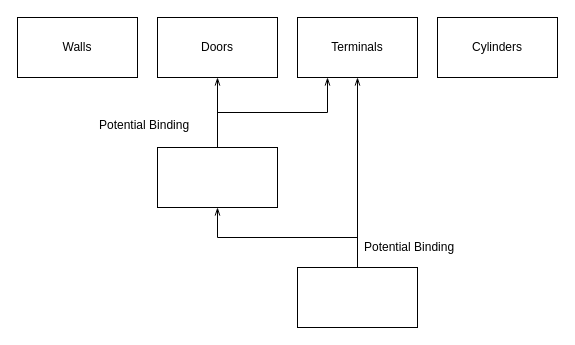
Some shapes in this 575 by 345 pixel diagram are drawn without their labels. Each missing label, with the centre of its shape:
Switches: the point at 217,177
Triggers: the point at 357,297
